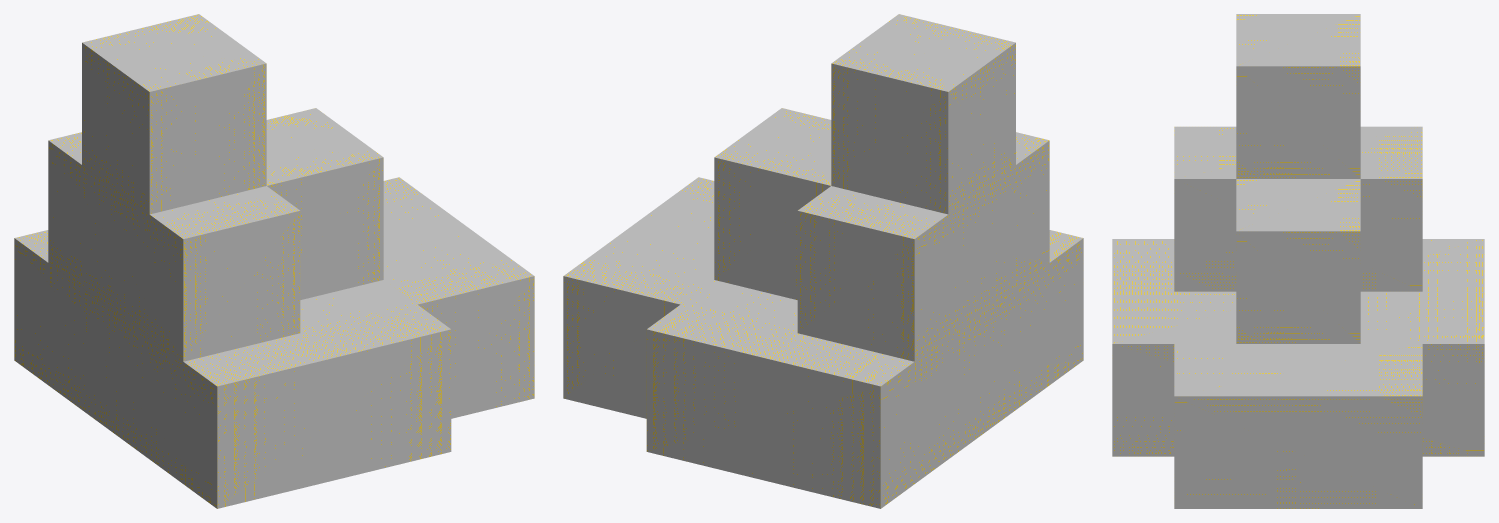
File: gold-fragment.fbx
The picture shows the model from 3 angles, left to right: view 1: azimuth 30°, elevation 25°; view 2: azimuth 150°, elevation 25°; view 3: azimuth 270°, elevation 25°; orthographic projection. The views are drawn at different scales.
Parts seen in each view (by area): view 1: generated; view 2: generated; view 3: generated.
Boxes of the visible parts, x1,y1,x2,y2 form: generated: [14, 14, 534, 508]; generated: [563, 14, 1083, 508]; generated: [1112, 14, 1484, 508].
Bounding box in the file's own units: 30 × 30 × 30.
Materials: 1 (1 with a texture image).
